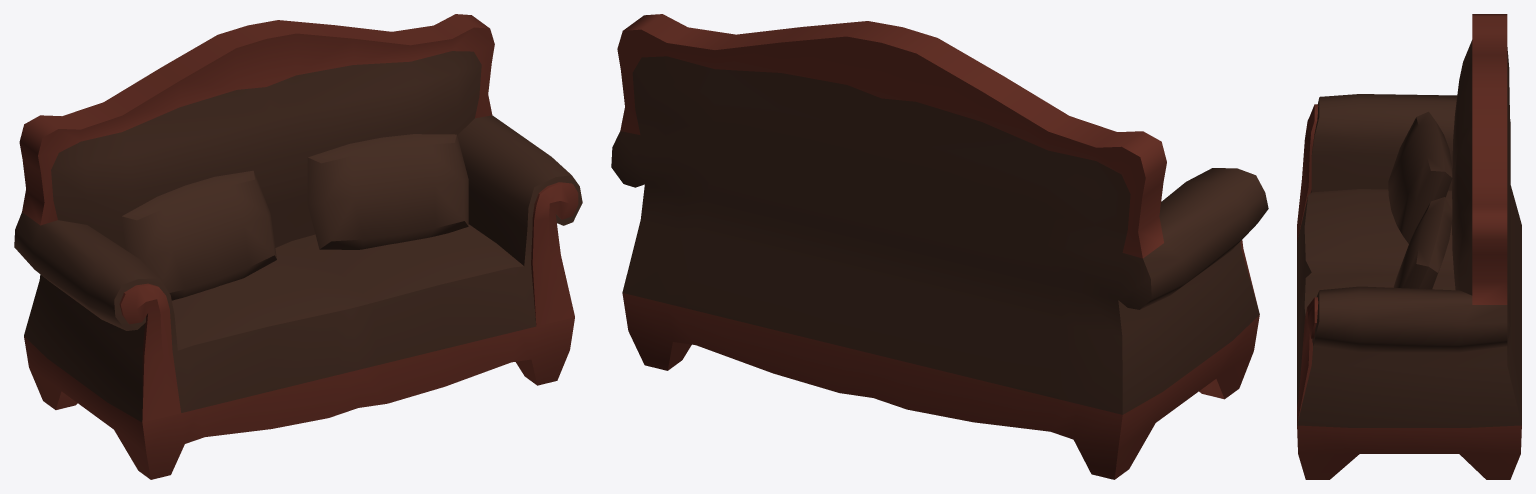
Rendered from Sofa.fbx.
The picture shows the model from 3 angles, left to right: view 1: azimuth 30°, elevation 25°; view 2: azimuth 150°, elevation 25°; view 3: azimuth 270°, elevation 25°; orthographic projection. The views are drawn at different scales.
Parts seen in each view (by area): view 1: Sofa, Pillow, SofaSpiral; view 2: Sofa; view 3: Sofa, Pillow, SofaSpiral.
Part boxes in pixels (bbox=[...]): Sofa: bbox=[14, 14, 582, 479]; Pillow: bbox=[121, 134, 468, 300]; SofaSpiral: bbox=[119, 182, 578, 422]; Sofa: bbox=[611, 14, 1268, 479]; Sofa: bbox=[1297, 14, 1521, 479]; Pillow: bbox=[1388, 111, 1452, 289]; SofaSpiral: bbox=[1297, 104, 1318, 424].
Size of the model in its own units: 535 by 350 by 230.
